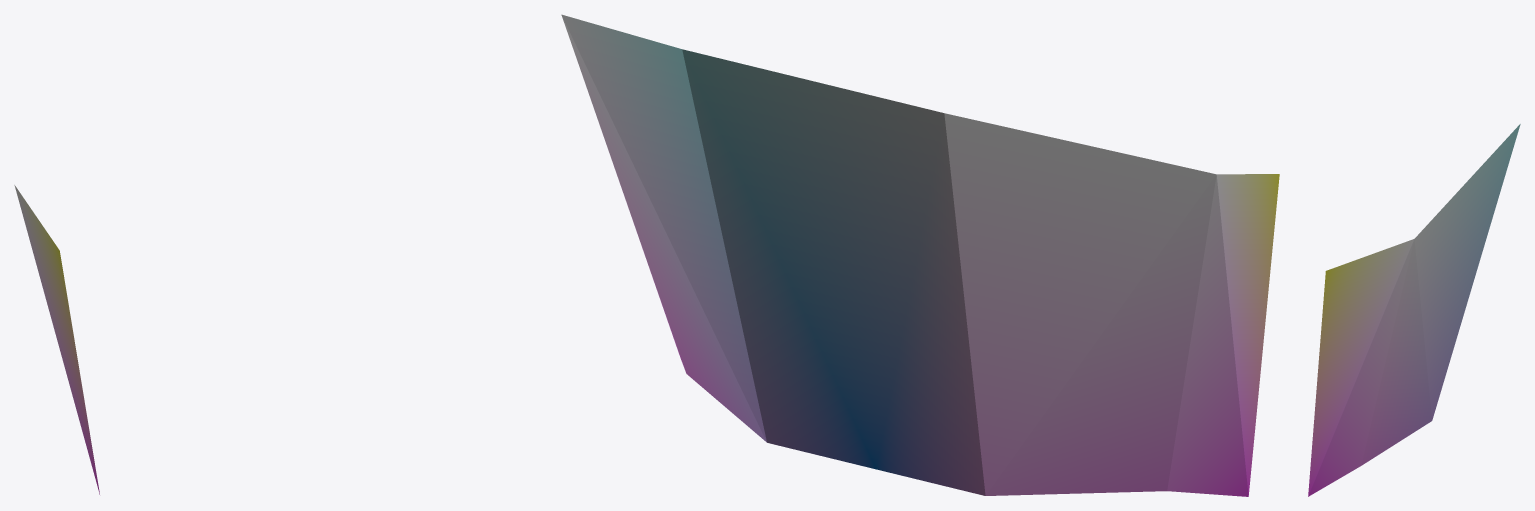
3 views of the same model, side by side, from view 1: azimuth 30°, elevation 25°; view 2: azimuth 150°, elevation 25°; view 3: azimuth 270°, elevation 25° (orthographic). The views are drawn at different scales.
Visible parts, largest first — view 1: model_11AD; view 2: model_11AD; view 3: model_11AD.
Boxes of the visible parts, x1,y1,x2,y2 form: model_11AD: (14,185,99,494); model_11AD: (561,14,1279,496); model_11AD: (1308,124,1520,496).
Size of the model in its own units: 30 by 20 by 12.
